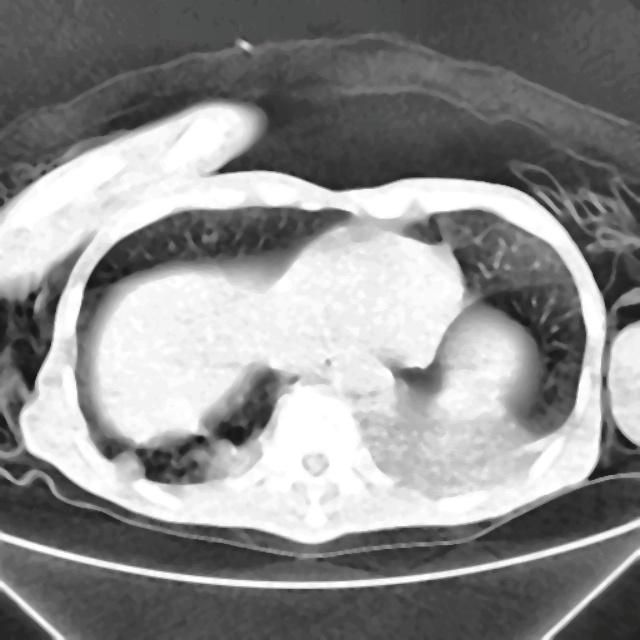covid: (3, 101, 608, 550)
